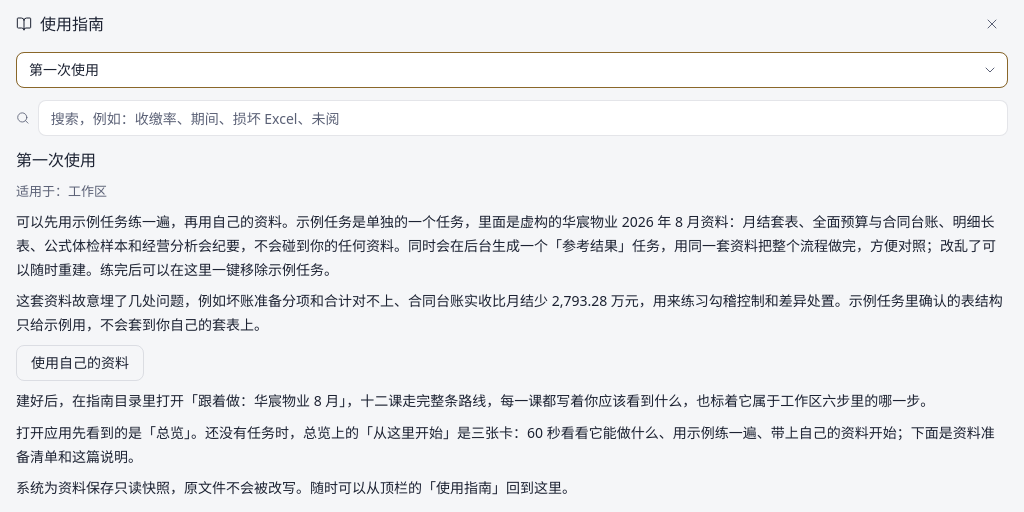
Test: changes the article from the drop-down and leaves focus on it
The image size is (1024, 512).
Select "文稿与导出" in the dropdown named "指南目录" at (512, 70), box [16,52,1008,88]
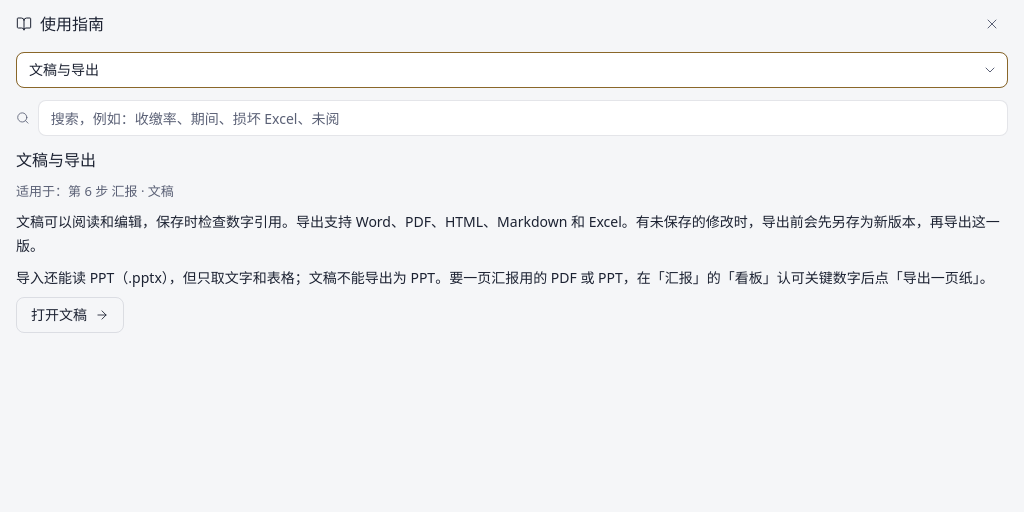
Expected: the heading "文稿与导出" is shown, [16,149,96,171]
